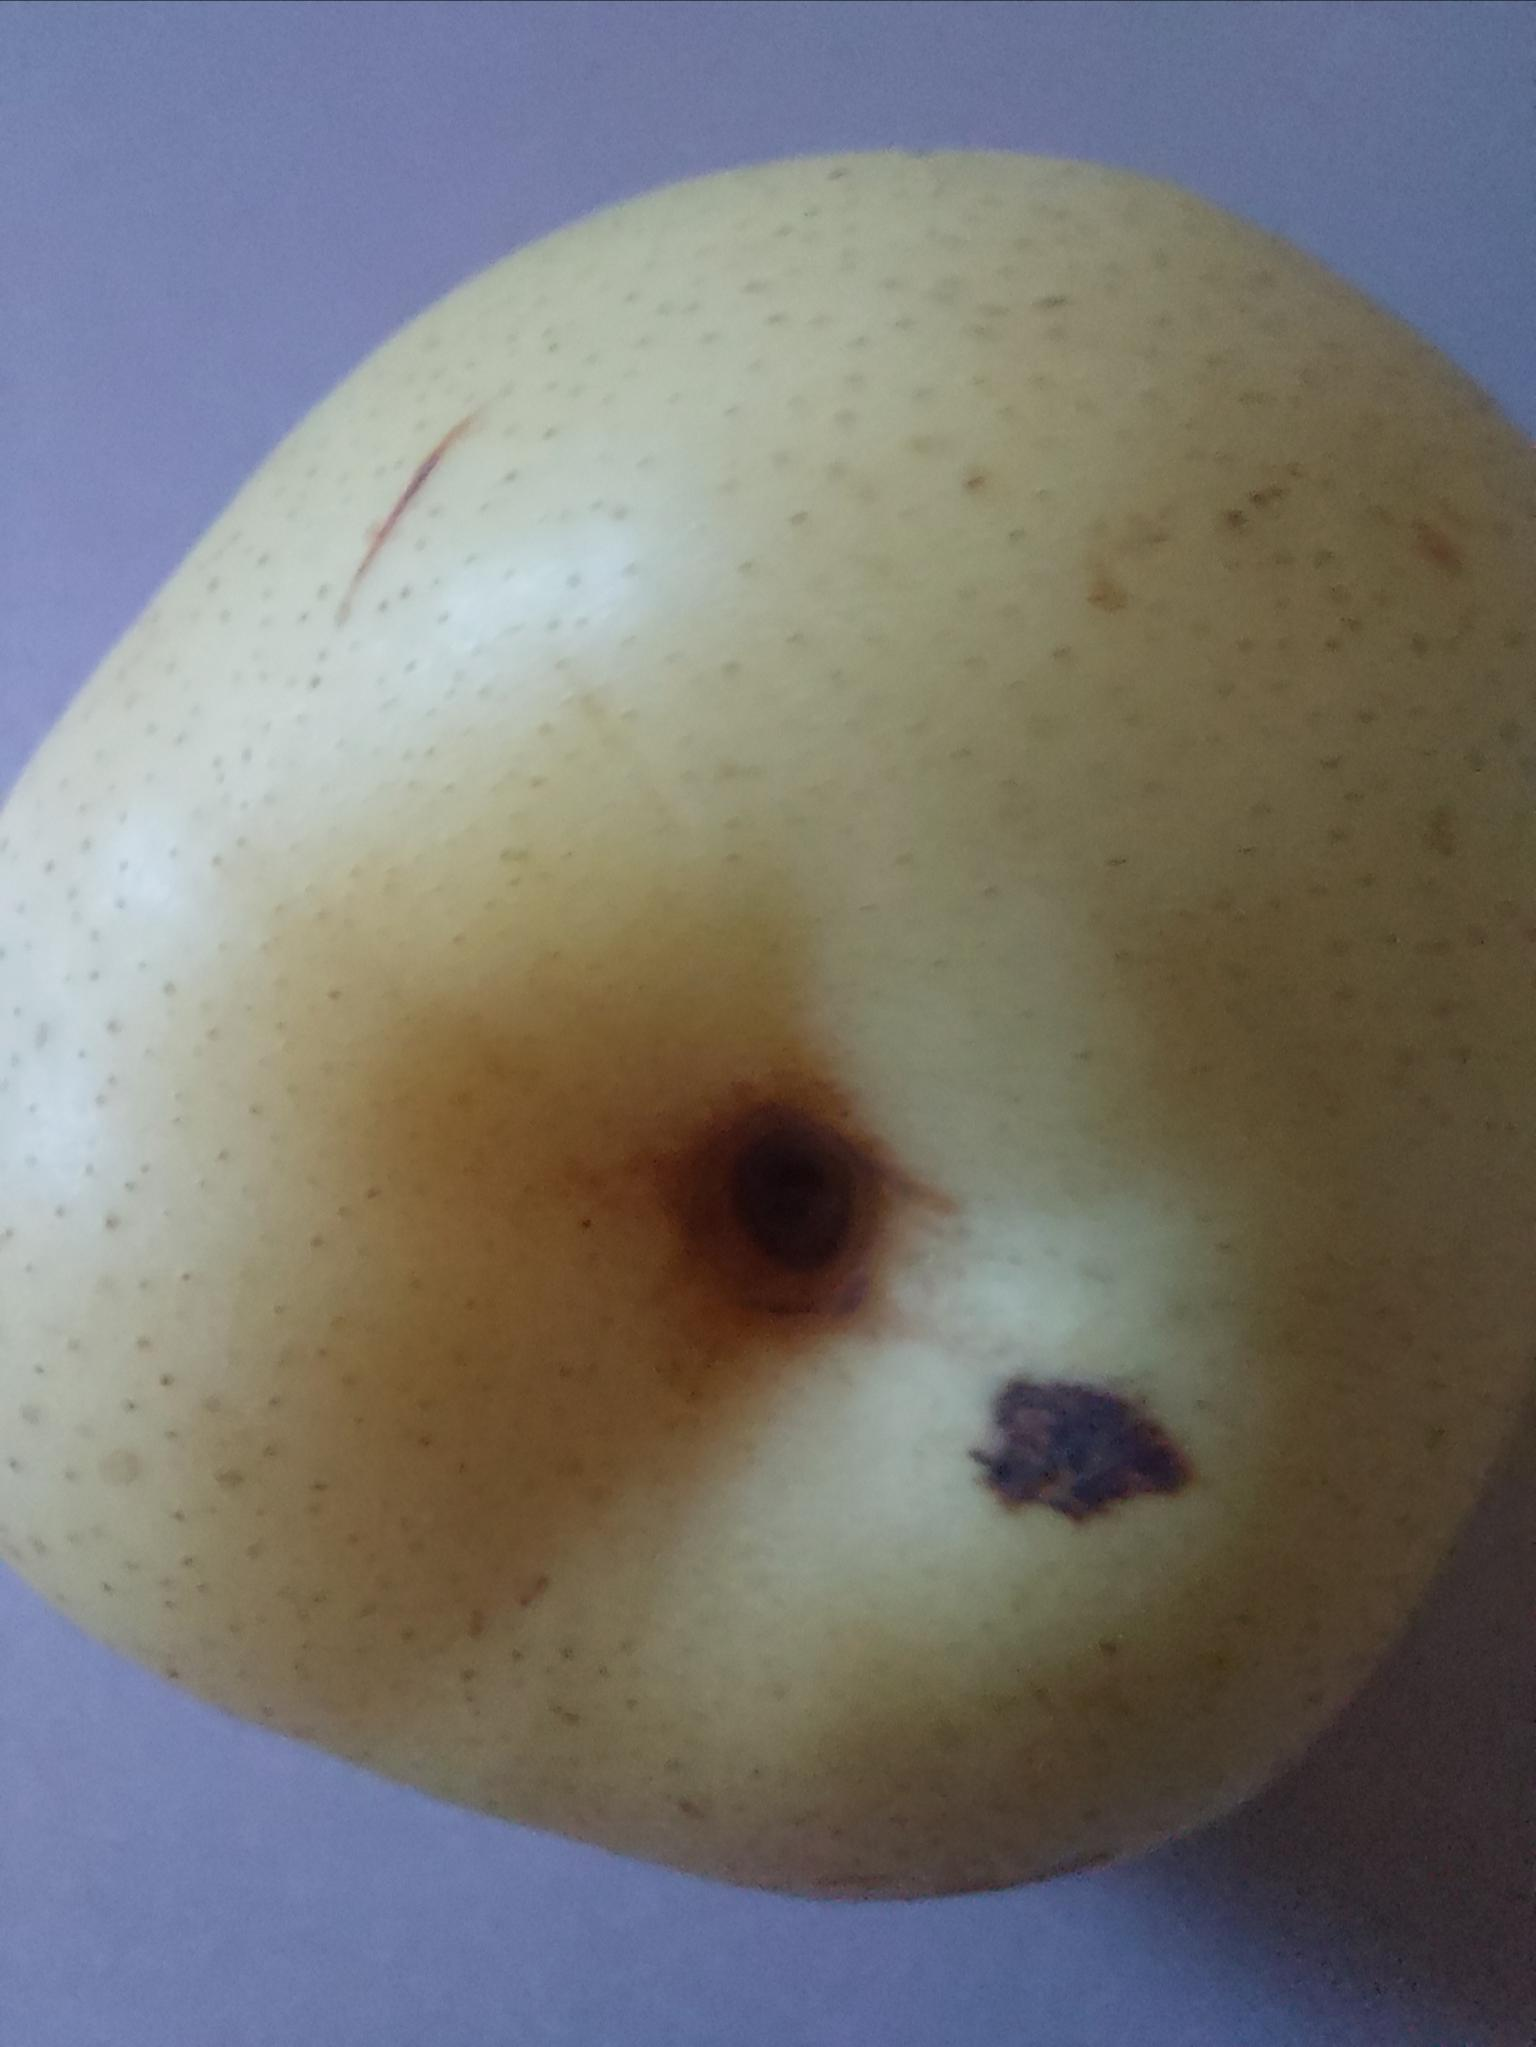Good Pear: (0, 105, 1517, 1970)
